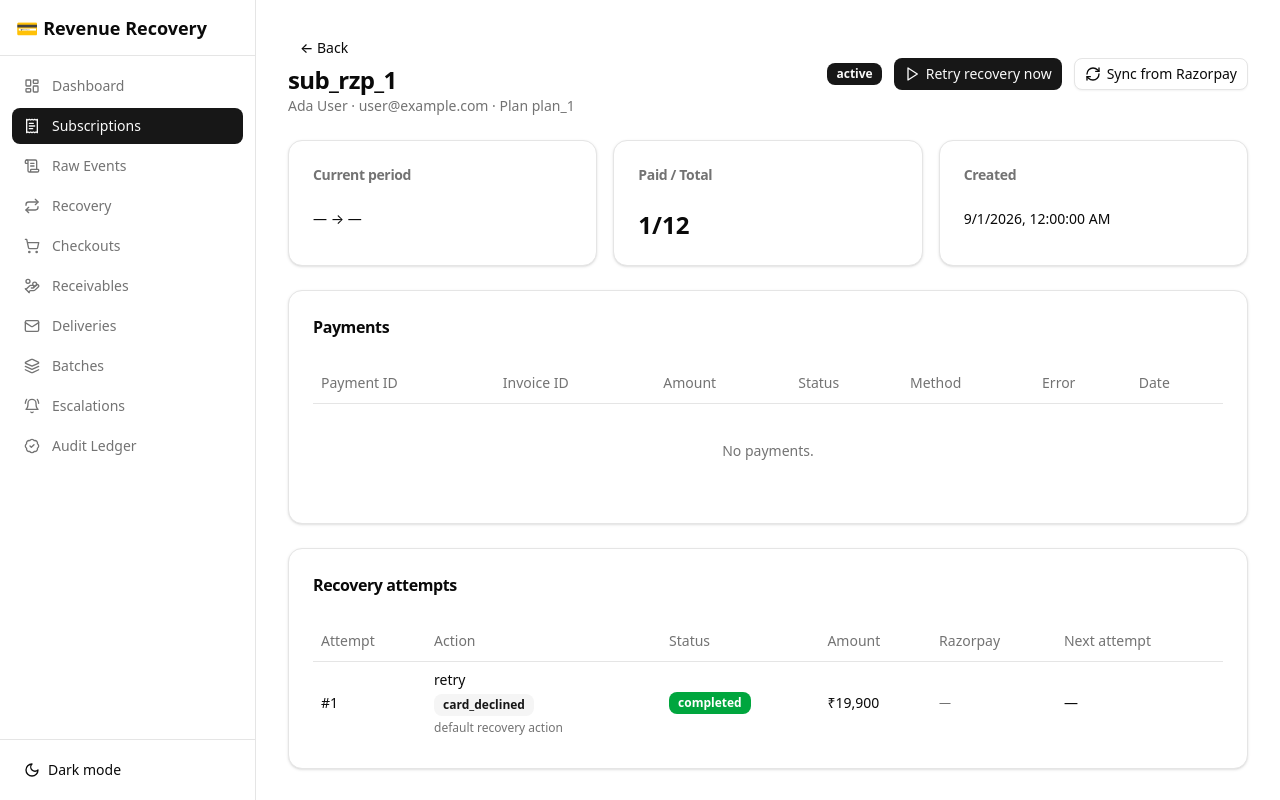
Scenario: dashboard pages render › recover button posts and shows the scheduled state
This screenshot has width=1280, height=800.
What coordinates should you click on to do the following:
click the button "Retry recovery now"
I would click on:
 (978, 74)
Its box is [894,58,1062,90].
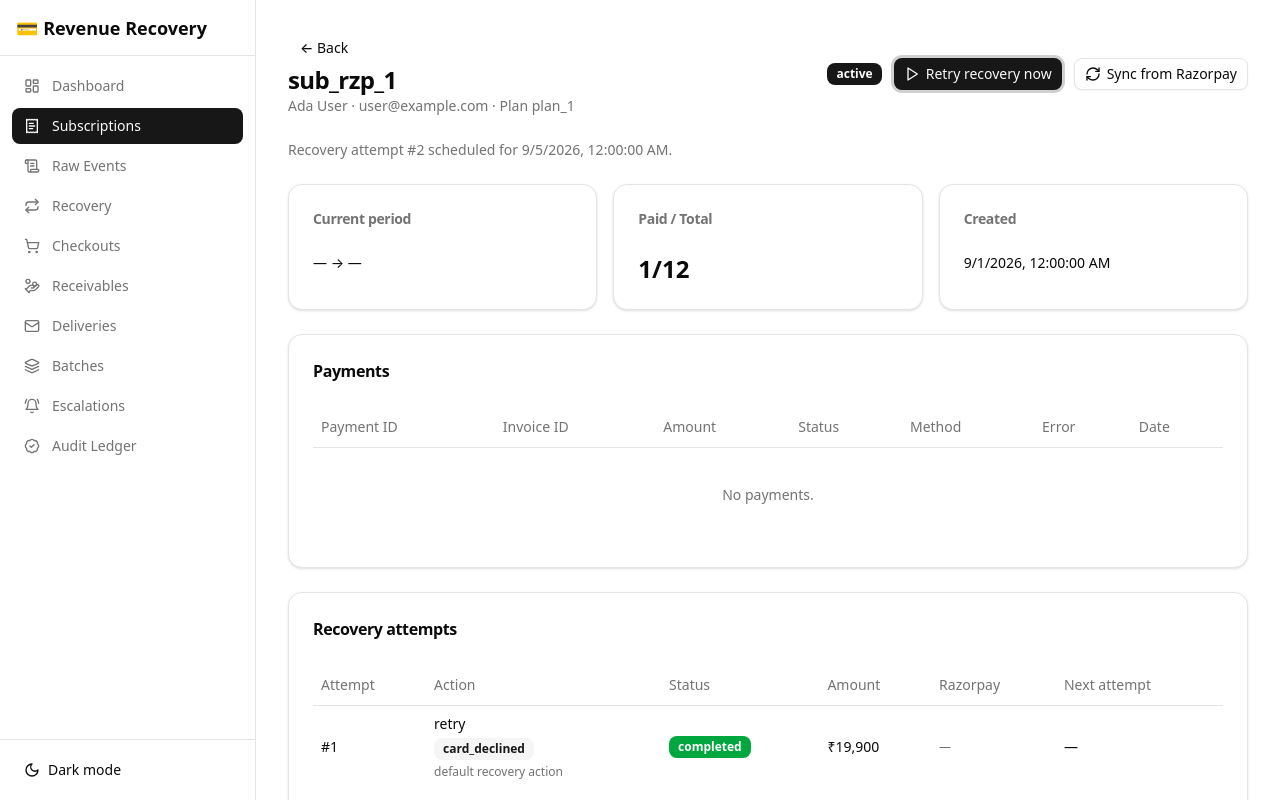
Expected: the text "Recovery attempt #2 scheduled for 9/5/2026, 12:00:00 AM." is shown, [288,140,672,159]
